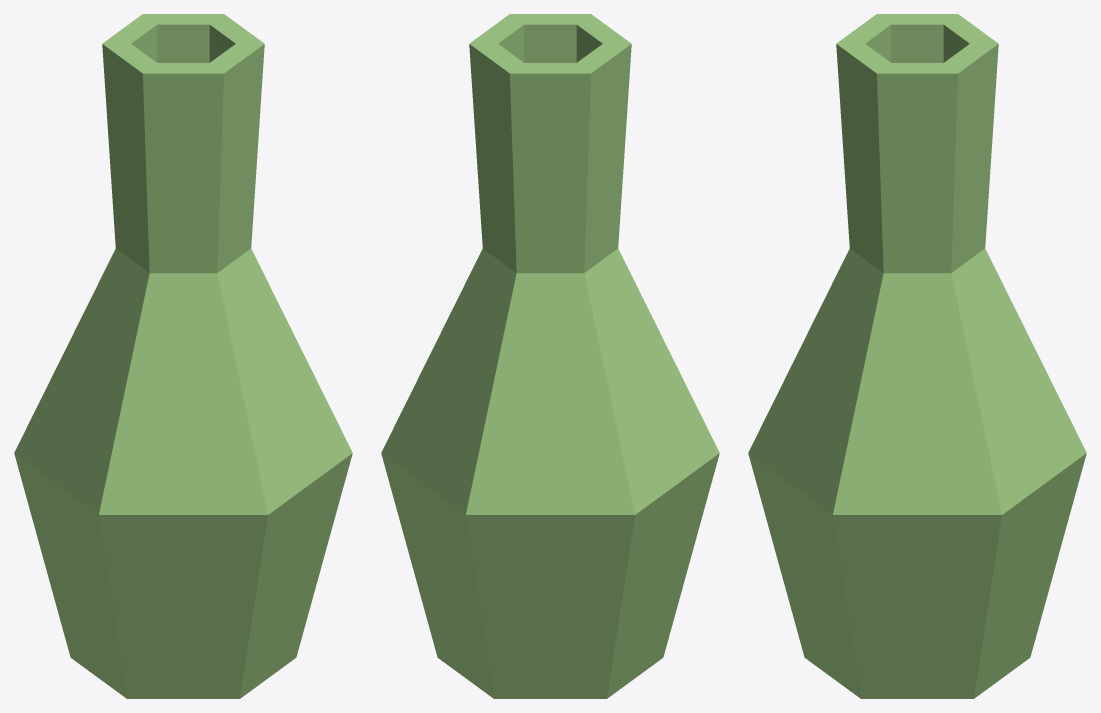
File: Vase.fbx
The picture shows the model from 3 angles, left to right: view 1: azimuth 30°, elevation 25°; view 2: azimuth 150°, elevation 25°; view 3: azimuth 270°, elevation 25°; orthographic projection.
Parts seen in each view (by area): view 1: Vase; view 2: Vase; view 3: Vase.
Boxes of the visible parts, box(x1,y1,x2,y2) form: Vase: box(14, 14, 352, 698); Vase: box(381, 14, 719, 698); Vase: box(748, 14, 1086, 698).
Bounding box in the file's own units: 15.28 × 35.28 × 17.64.
